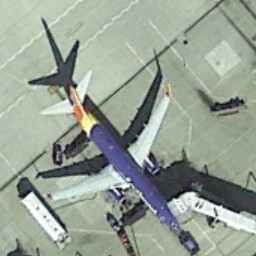Airplane: (24, 63, 189, 242)
